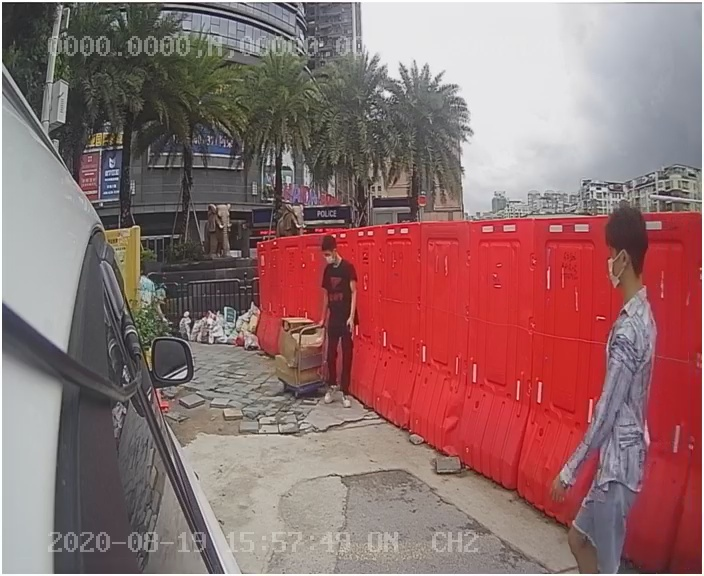person: (545, 206, 662, 556), (309, 233, 374, 416)
